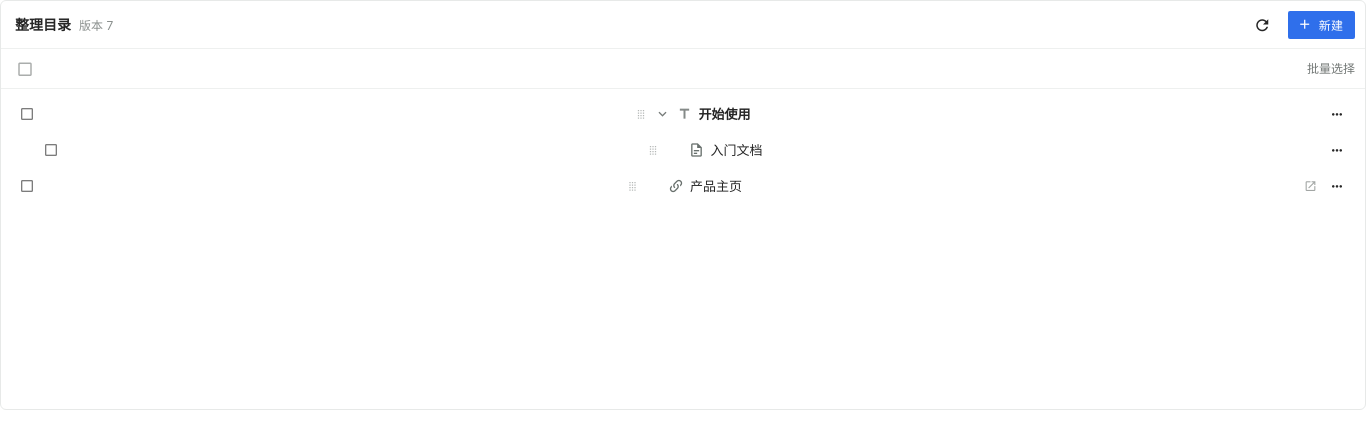
CatalogPanel compact catalog tree › renders document, group and external-link nodes as 36px rows and collapses descendants
Check: the number of list items with class "catalog-node" is 3, box [9,96,1357,132]; [9,132,1357,168]; [9,168,1357,204]
Click the button with class "collapse-button": x=662, y=114 [652,100,672,128]
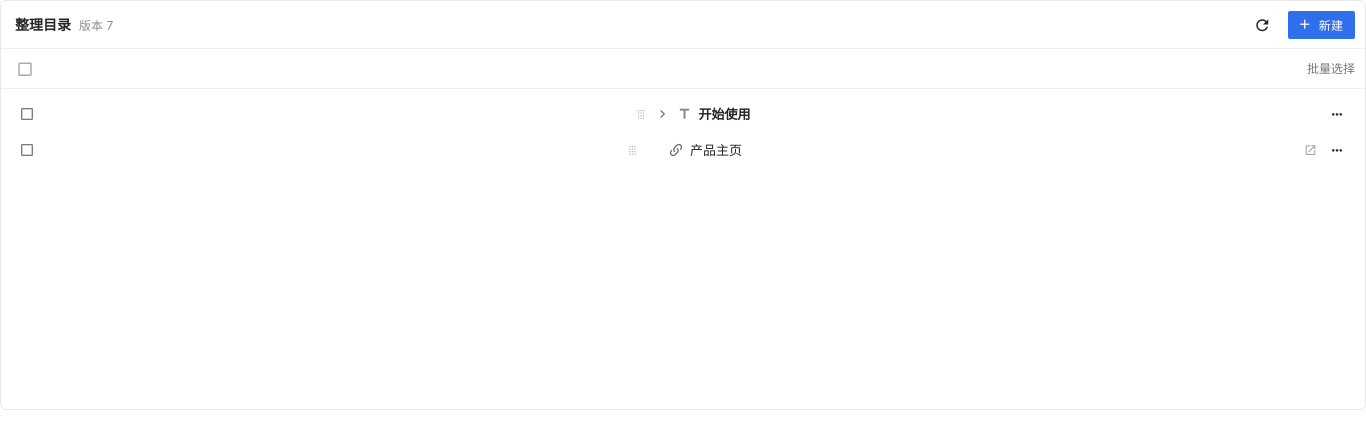
Check: the number of list items with class "catalog-node" is 2, box [9,96,1357,132]; [9,132,1357,168]
Check: the text "入门文档" is gone
